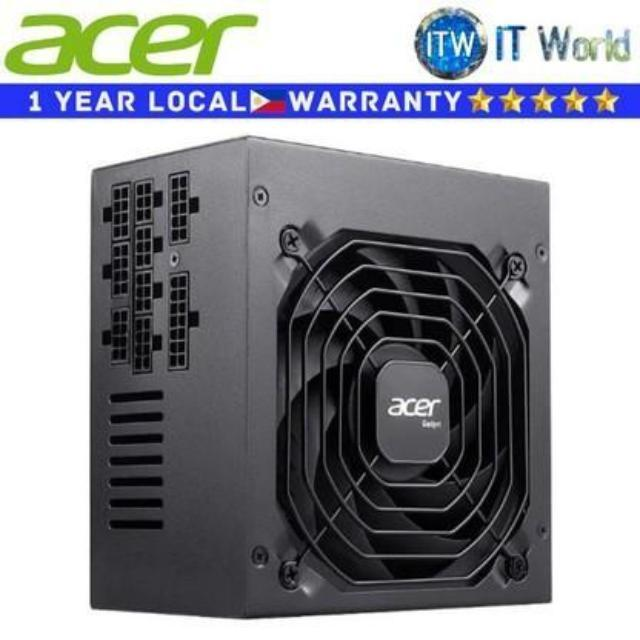PSU: (77, 130, 571, 622)
